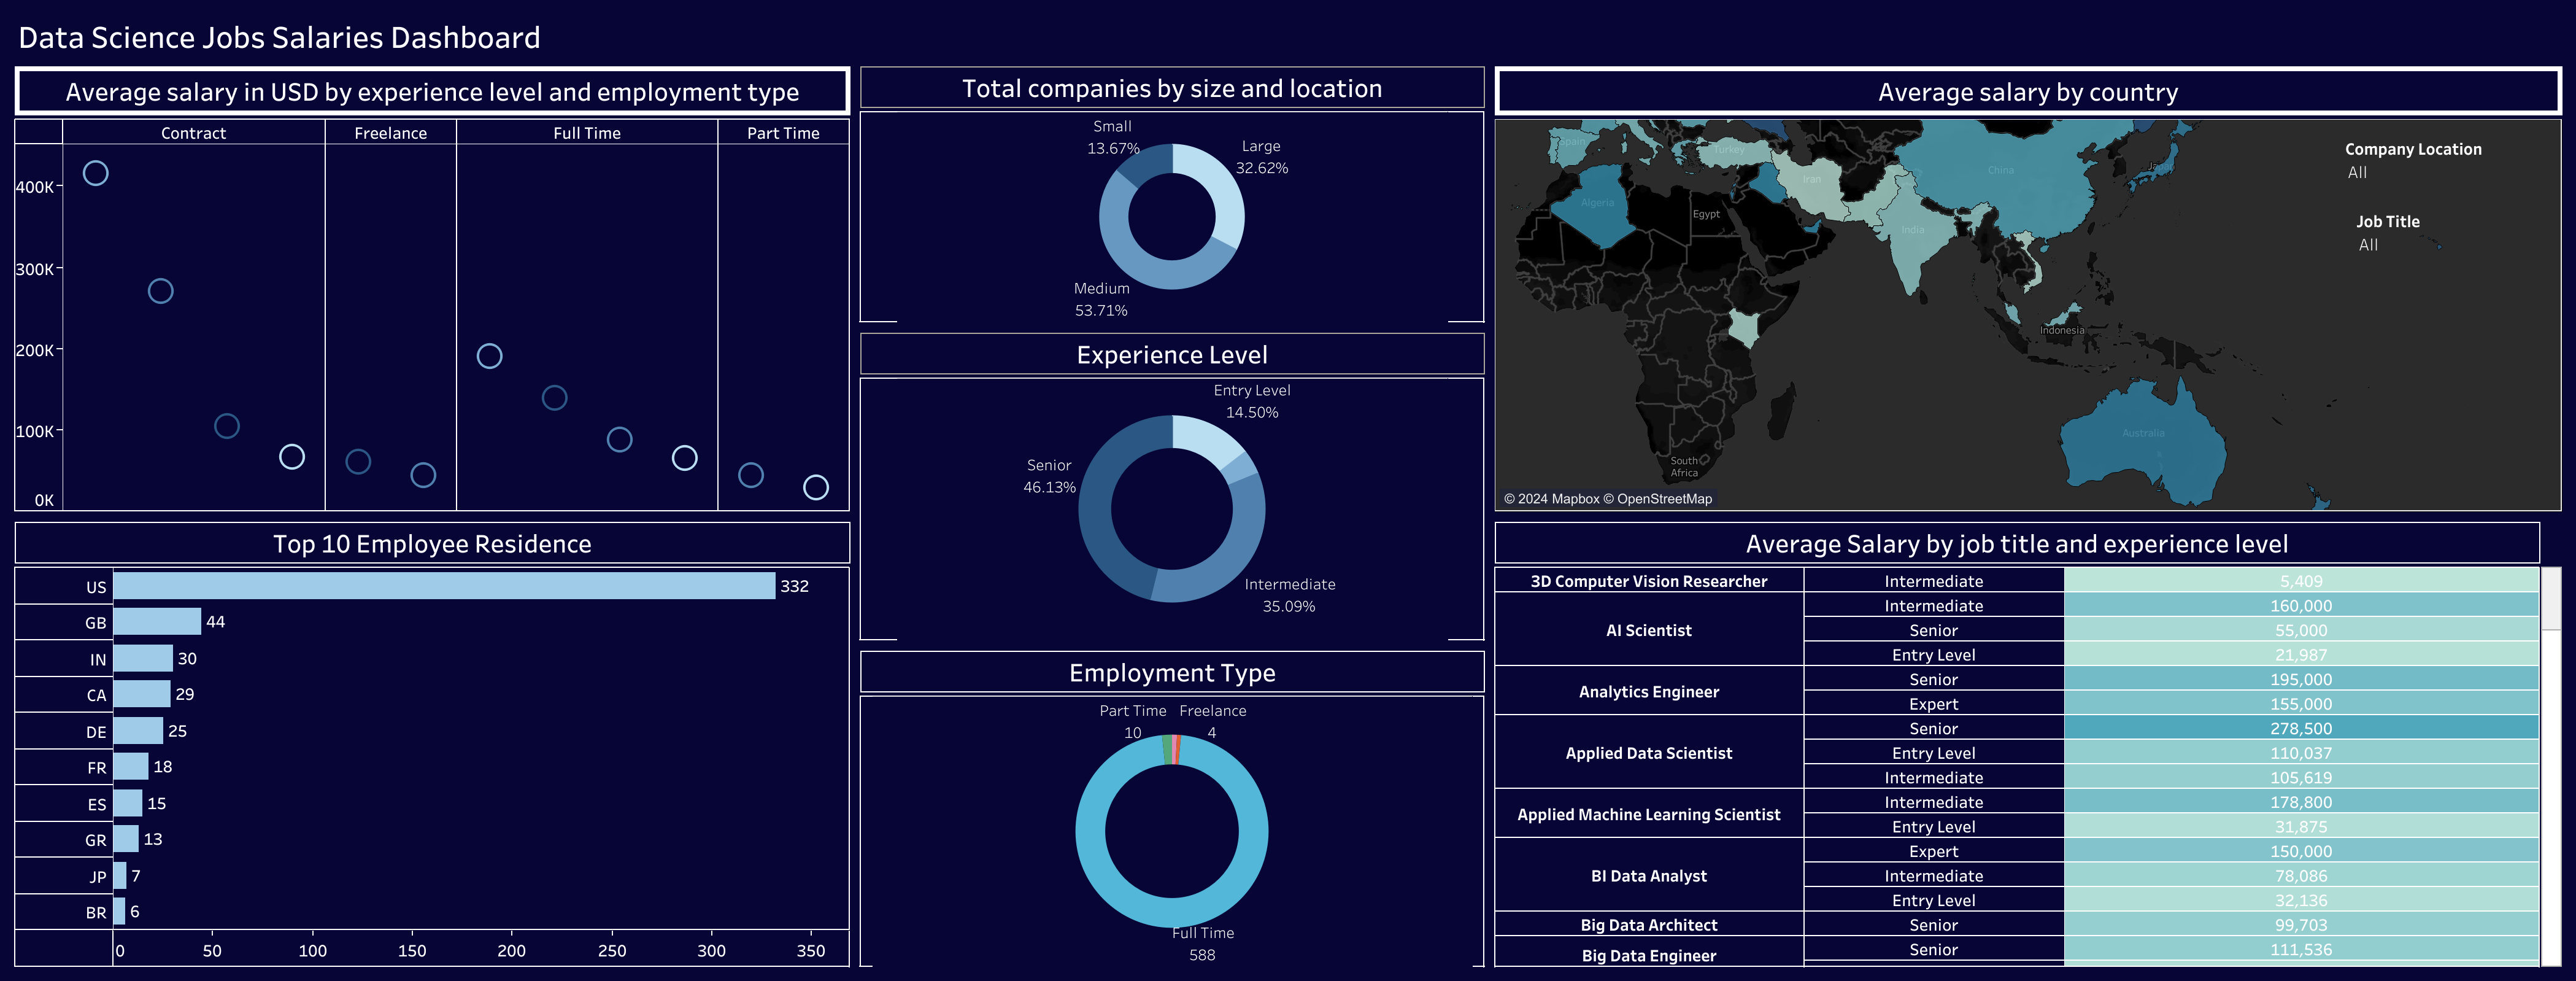

This screenshot's page, from the dashboard's own definition file:
{"tool":"tableau","page":{"name":"Dashboard 1","canvas":[2100,800],"ordinal":0},"visuals":[{"type":"title","box":[8,8,2084,41]},{"type":"worksheet","title":"Average salary in USD by experience level and employment type","mark":"Shape","rows":["salary_in_usd"],"cols":["employment_type","experience_level"],"box":[8,49,688.9,371.5]},{"type":"worksheet","title":"Total companies by size and location","mark":"Pie","rows":["Calculation_945474513301807105","Calculation_945474513301807105"],"box":[696.9,49,516.7,217.1]},{"type":"worksheet","title":"Average salary by country","mark":"Automatic","box":[1213.5,49,878.5,371.5]},{"type":"filter","title":"Average salary in USD by experience level and employment type","param":"[federated.1clz0zr1dmcok41bsvapr04x1p3q].[none:company_location:nk]","box":[1911,110,168,53]},{"type":"filter","title":"Average salary in USD by experience level and employment type","param":"[federated.1clz0zr1dmcok41bsvapr04x1p3q].[none:job_title:nk]","box":[1920,169,168,53]},{"type":"worksheet","title":"Experience Level","mark":"Pie","rows":["Calculation_945474513301807105","Calculation_945474513301807105"],"box":[696.9,266.1,516.7,259.2]},{"type":"worksheet","title":"Top 10 Employee Residence","mark":"Automatic","rows":["employee_residence"],"cols":["employee_residence"],"box":[8,420.5,688.9,371.5]},{"type":"worksheet","title":"Average Salary by job title and experience level","mark":"Square","rows":["job_title","experience_level"],"box":[1213.5,420.5,878.5,371.5]},{"type":"worksheet","title":"Employment Type","mark":"Pie","rows":["Calculation_945474513301807105","Calculation_945474513301807105"],"box":[696.9,525.3,516.7,266.7]}]}

Visuals, with their boxes in screenshot pixels (x1, y1, x2, y2), scaled from the page's 2100x800 canvas onto the 2576x981 screenshot:
title: left=10, top=10, right=2566, bottom=60
"Average salary in USD by experience level and employment type" worksheet (Shape marks): left=10, top=60, right=855, bottom=516
"Total companies by size and location" worksheet (Pie marks): left=855, top=60, right=1489, bottom=327
"Average salary by country" worksheet: left=1489, top=60, right=2566, bottom=516
"Average salary in USD by experience level and employment type" filter: left=2344, top=135, right=2550, bottom=200
"Average salary in USD by experience level and employment type" filter: left=2355, top=207, right=2561, bottom=272
"Experience Level" worksheet (Pie marks): left=855, top=327, right=1489, bottom=644
"Top 10 Employee Residence" worksheet: left=10, top=516, right=855, bottom=971
"Average Salary by job title and experience level" worksheet (Square marks): left=1489, top=516, right=2566, bottom=971
"Employment Type" worksheet (Pie marks): left=855, top=644, right=1489, bottom=971
